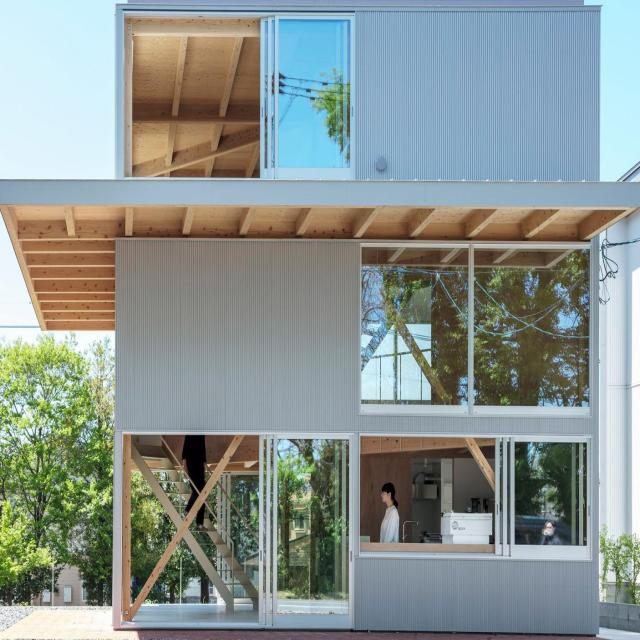door: (262, 432, 356, 626)
plant: (0, 334, 114, 607), (599, 525, 640, 606)
wall: (0, 0, 640, 635)
windows: (120, 433, 354, 625), (359, 248, 591, 401), (260, 11, 358, 181), (492, 438, 590, 558)
